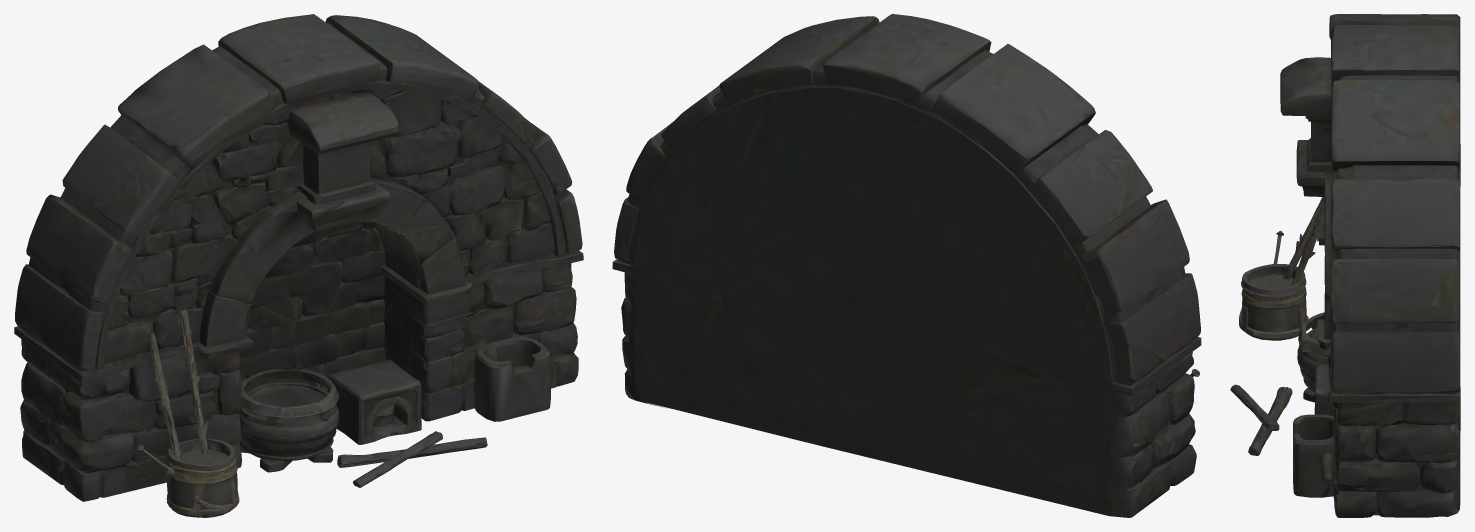
The model's file is forge.glb.
The picture shows the model from 3 angles, left to right: view 1: azimuth 30°, elevation 25°; view 2: azimuth 150°, elevation 25°; view 3: azimuth 270°, elevation 25°; orthographic projection. The views are drawn at different scales.
Visible parts, largest first — view 1: mesh_node; view 2: mesh_node; view 3: mesh_node.
Part boxes in pixels (box(x1,y1,x2,y2)): mesh_node: box(14, 14, 583, 517); mesh_node: box(612, 14, 1201, 517); mesh_node: box(1230, 14, 1460, 517).
Size of the model in its own units: 1.9 by 1.37 by 0.7816.
Materials: 1 (1 with a texture image).
